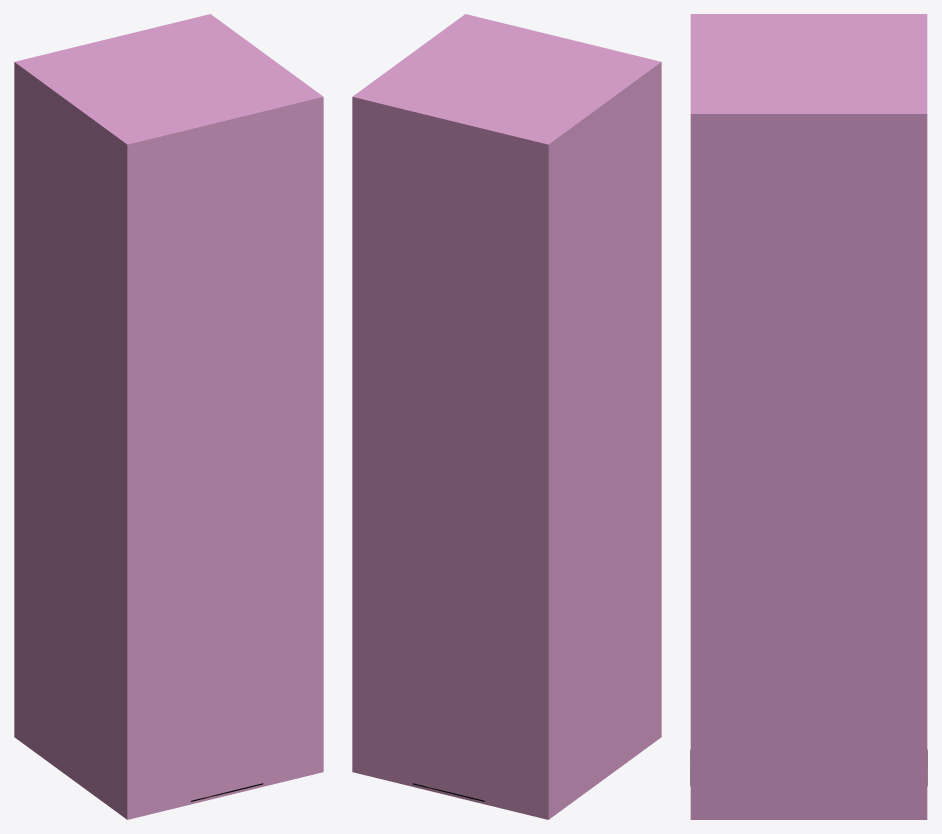
Rendered from rock_tower_1.DAE.
3 renders of one model, left to right at view 1: azimuth 30°, elevation 25°; view 2: azimuth 150°, elevation 25°; view 3: azimuth 270°, elevation 25°, orthographic. The views are drawn at different scales.
Visible parts, largest first — view 1: bounds; view 2: bounds; view 3: bounds.
Part boxes in pixels (left/top/right/bottom): bounds: left=14, top=14, right=323, bottom=819; bounds: left=352, top=14, right=661, bottom=819; bounds: left=690, top=14, right=927, bottom=819.
Bounding box in the file's own units: 8.2 × 8.2 × 26.96.
